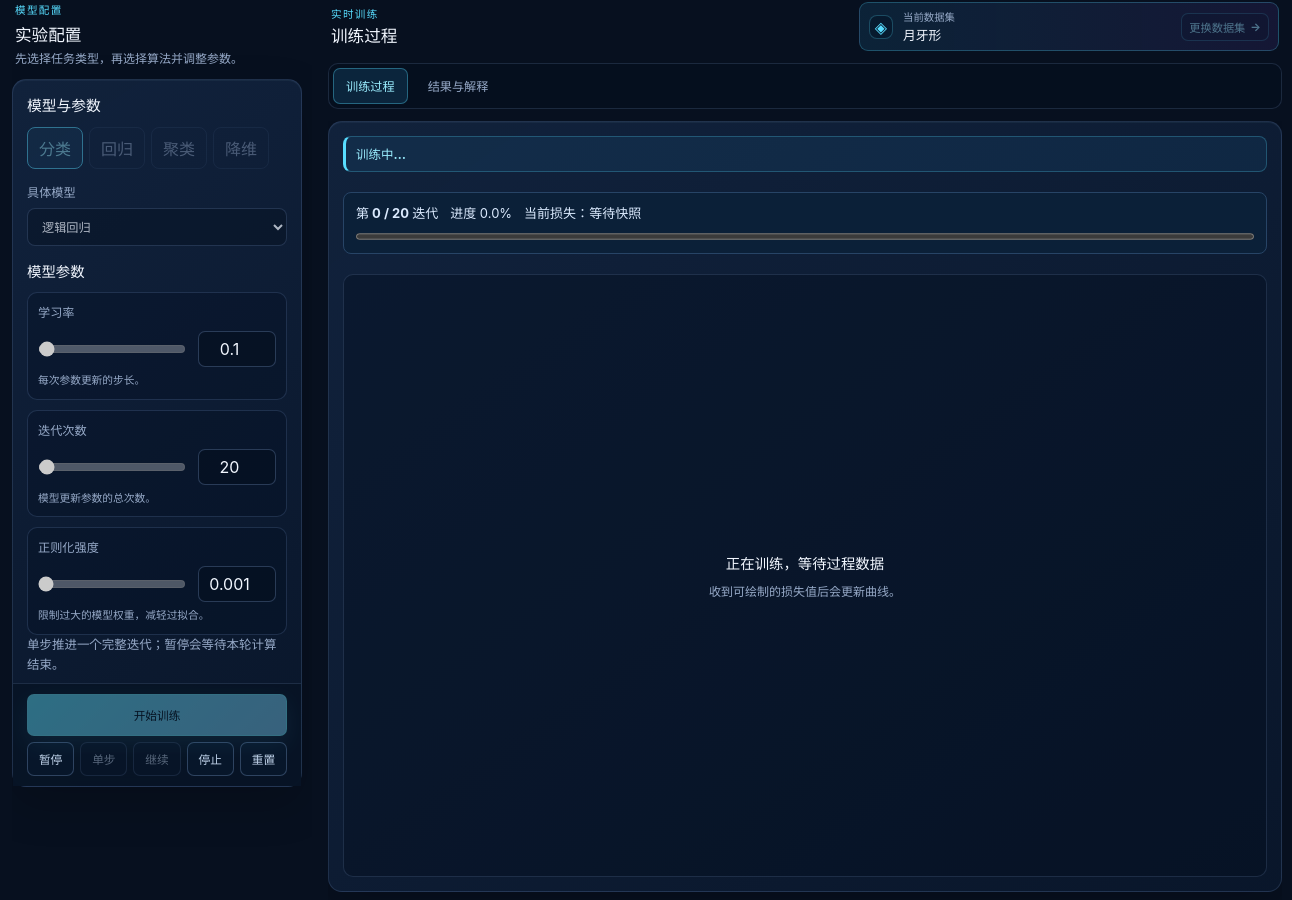
Scenario: 单页训练工作台 › 训练未完成时不展示遗留的结果面板或当前结果
The width and height of the screenshot is (1292, 900).
Click the tab "结果与解释": click(458, 86) [415, 68, 501, 104]
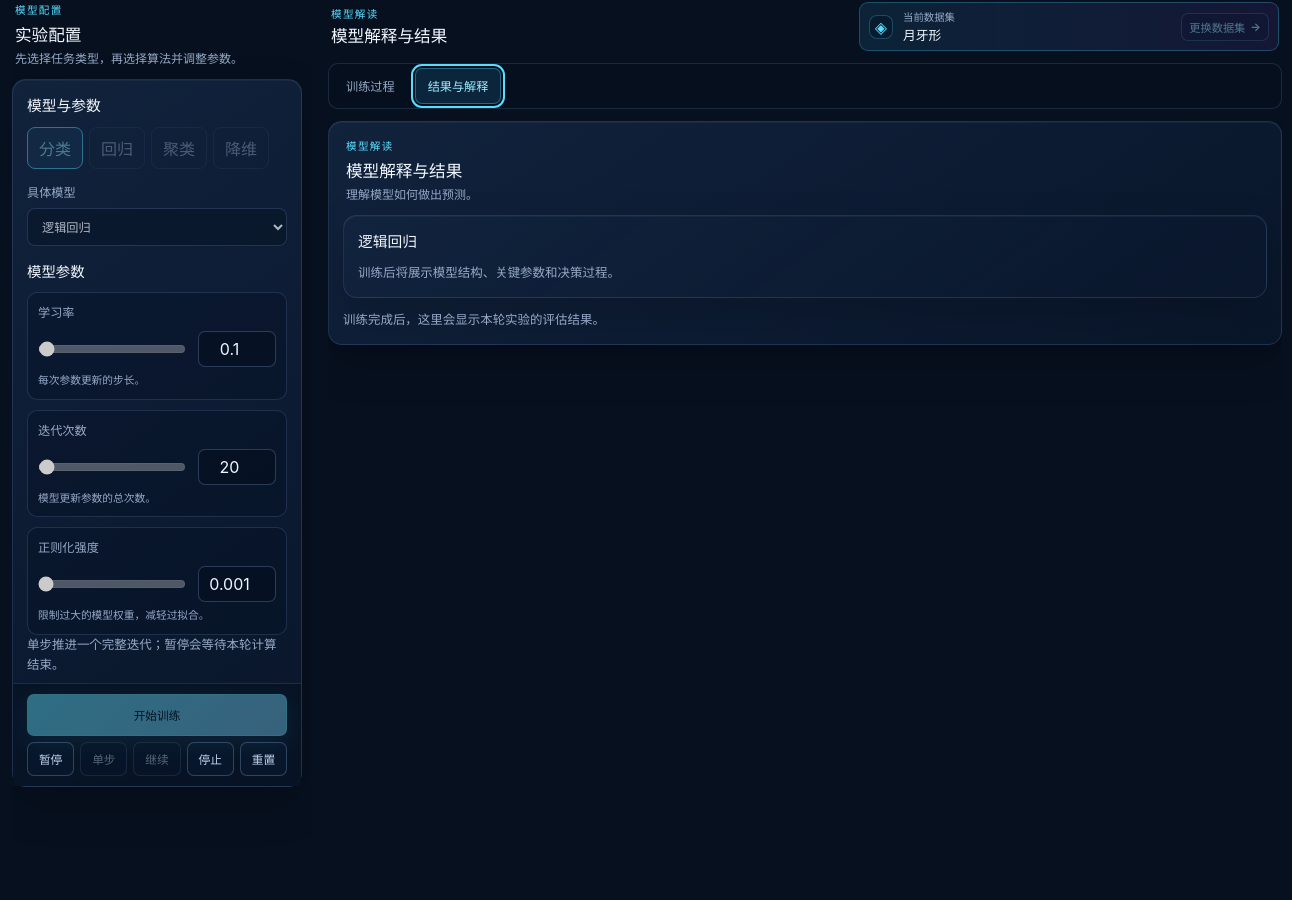
expect the element "模型解释与结果" does not show "遗留结果面板": met, box [328, 121, 1282, 345]
expect the element "模型解释与结果" shows "训练完成后，这里会显示本轮实验的评估结果。": met, box [343, 312, 605, 327]
